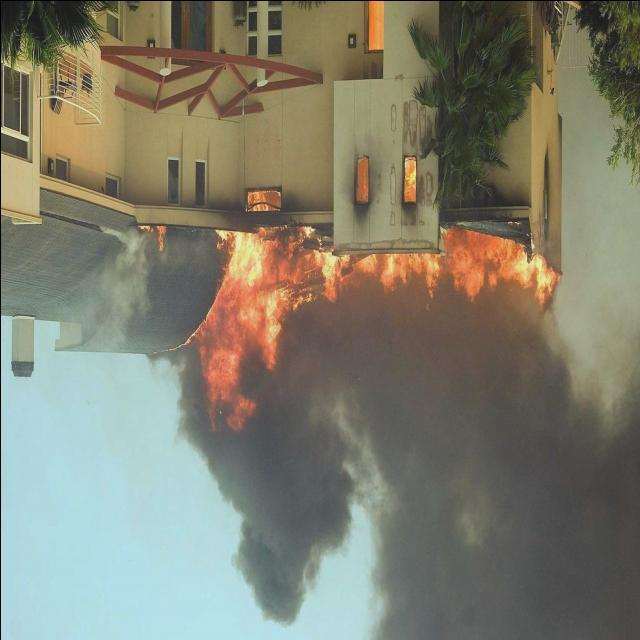Fire: (207, 226, 555, 311), (200, 226, 282, 428), (248, 187, 278, 210), (140, 222, 162, 252), (404, 158, 414, 194)
